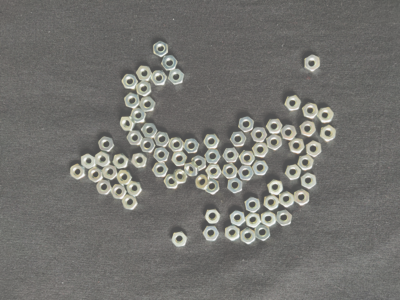nut: (304, 54, 321, 72), (302, 102, 319, 120), (300, 120, 317, 138), (317, 107, 334, 124), (266, 134, 283, 151), (284, 95, 302, 111), (294, 189, 310, 207), (321, 125, 337, 142), (306, 140, 322, 157), (298, 154, 314, 171), (281, 125, 298, 141), (285, 164, 302, 180), (301, 172, 317, 189), (268, 179, 284, 196), (261, 210, 277, 227), (245, 197, 261, 214), (225, 225, 241, 242), (251, 127, 268, 143), (239, 116, 255, 133), (239, 150, 256, 166), (222, 163, 238, 180), (162, 55, 178, 72), (169, 69, 185, 86), (151, 70, 168, 86), (122, 74, 139, 90), (140, 96, 156, 113), (130, 108, 147, 124), (152, 162, 169, 178), (98, 136, 115, 152), (241, 227, 256, 245), (289, 138, 305, 154), (277, 210, 293, 226), (255, 225, 271, 241), (245, 213, 261, 229), (203, 226, 219, 242), (267, 119, 283, 135), (184, 138, 200, 154), (172, 151, 188, 167), (154, 131, 170, 147), (136, 81, 152, 97), (131, 152, 147, 168), (113, 153, 129, 169), (122, 195, 138, 211), (264, 194, 279, 211), (230, 210, 245, 227), (252, 143, 269, 158), (252, 161, 269, 176), (230, 132, 247, 147), (153, 41, 168, 58), (153, 148, 170, 163), (127, 131, 144, 146), (111, 185, 128, 200), (81, 153, 96, 170), (205, 209, 221, 224), (172, 231, 187, 247), (238, 166, 254, 181), (223, 148, 239, 163), (228, 178, 243, 194), (204, 134, 220, 149), (205, 149, 221, 164), (206, 164, 222, 179), (172, 170, 188, 185), (169, 137, 185, 152), (137, 66, 153, 81), (125, 93, 140, 109), (120, 116, 136, 131), (142, 123, 158, 138), (140, 138, 156, 153), (127, 181, 142, 197), (117, 170, 133, 185), (96, 180, 112, 195), (102, 165, 118, 180), (96, 152, 111, 168), (88, 167, 103, 183), (70, 164, 85, 180), (280, 191, 294, 208), (195, 175, 210, 190), (164, 174, 179, 189), (206, 179, 220, 195), (192, 155, 206, 171), (185, 161, 199, 176)
